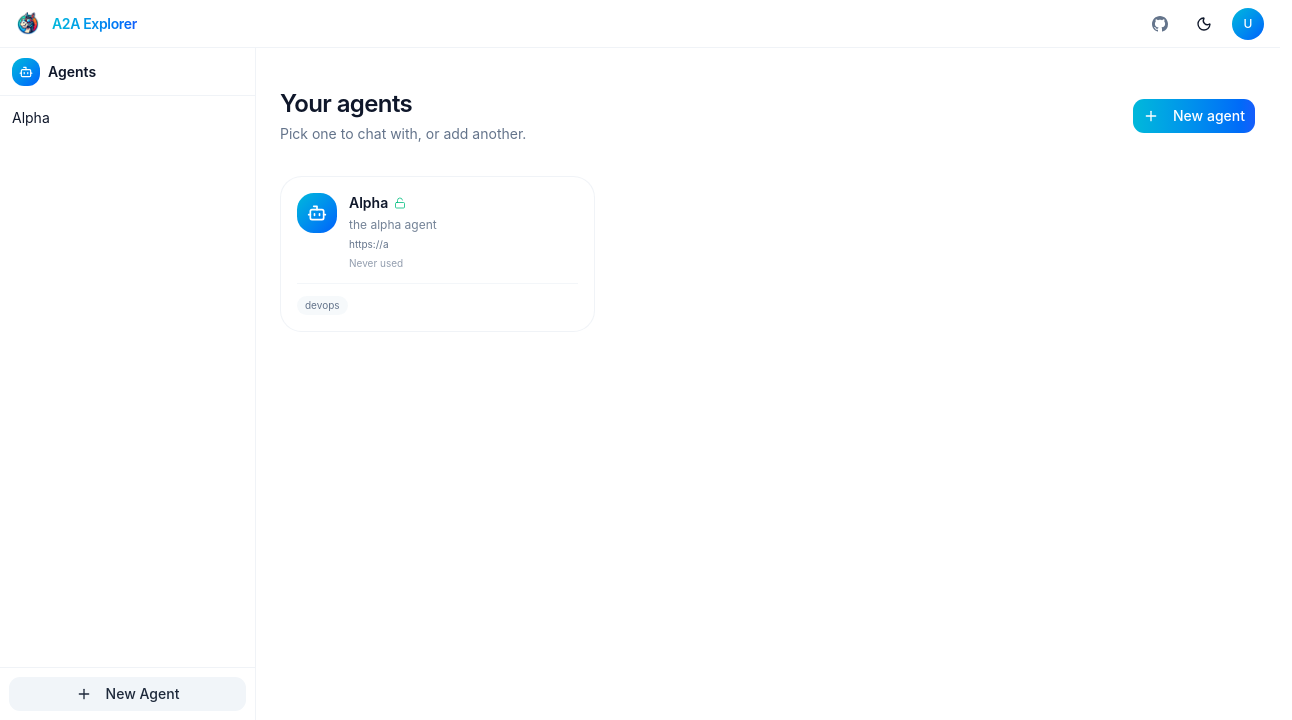
Test: HomePage › clicking a grid card opens the chat for that agent
# Click via the card's accessible button role (the sidebar entry is a div).
Click the button "Alpha the alpha agent https://a Never used devops". click: (317, 213)
box: [280,176,595,332]
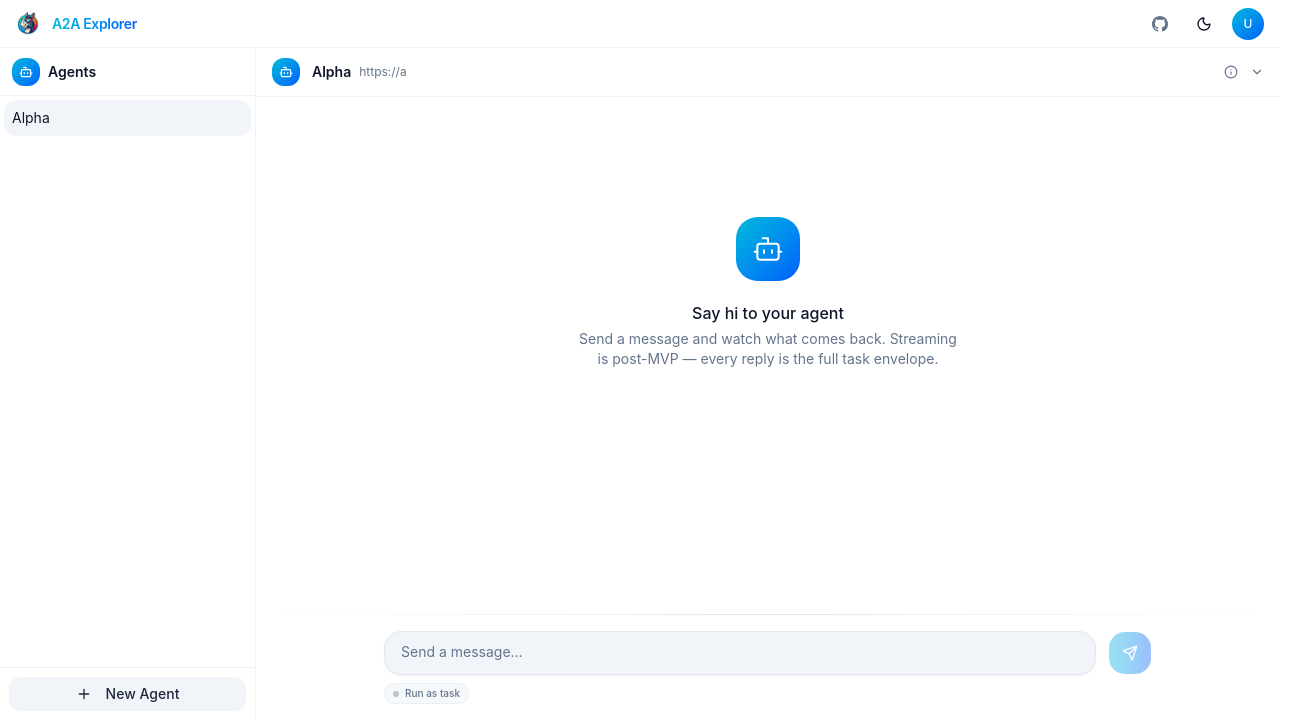
Expected: the text box with placeholder "Send a message…" is shown, [384,631,1096,675]
